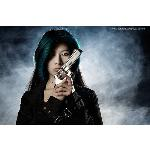Pistol: (51, 45, 83, 95)
